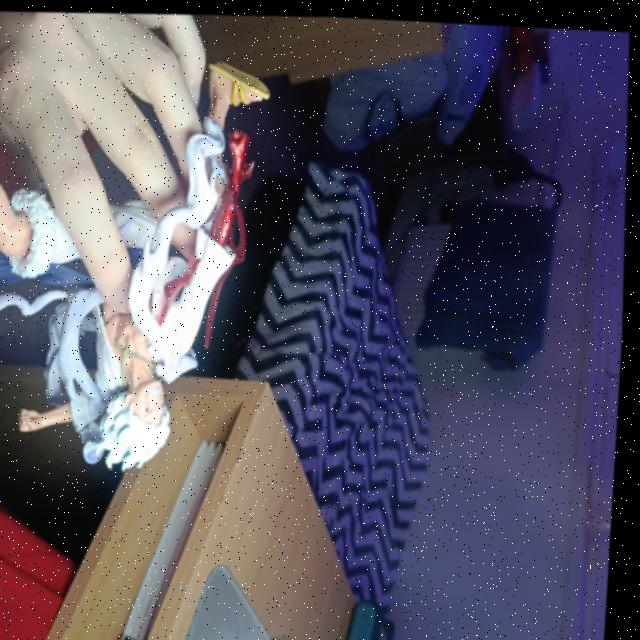luffy: (0, 1, 292, 481)
